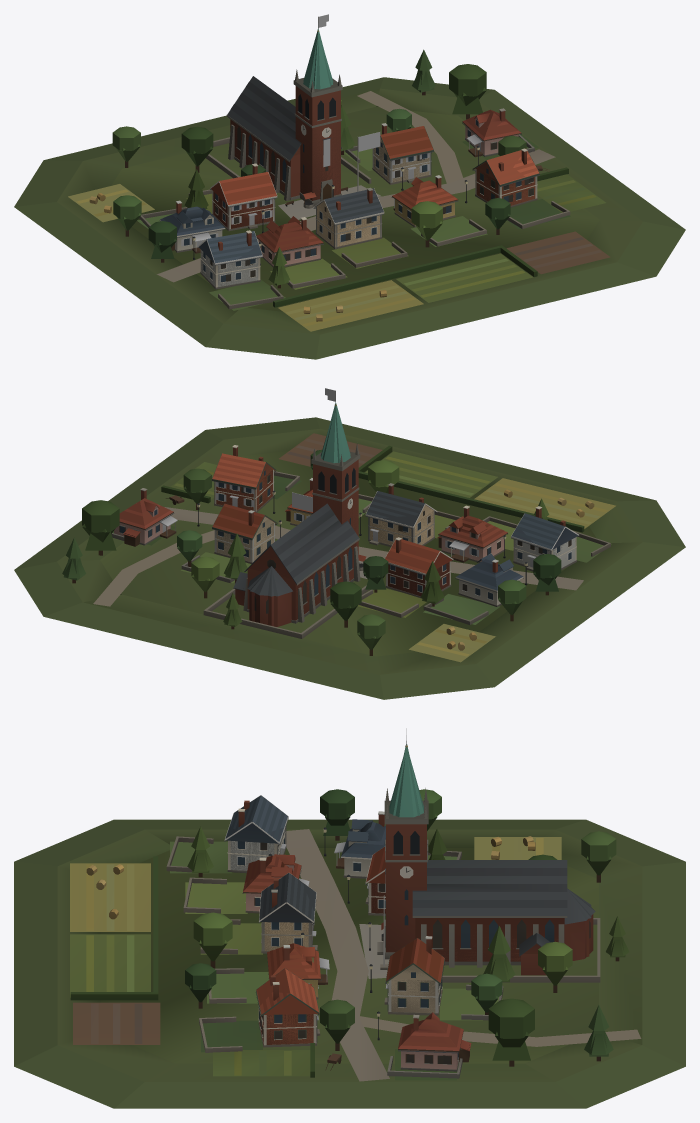
File: city_any_village.glb
3 views of the same model, one above another, from view 1: azimuth 30°, elevation 25°; view 2: azimuth 150°, elevation 25°; view 3: azimuth 270°, elevation 25° (orthographic). The views are drawn at different scales.
Visible parts, largest first — view 1: city_any_village_LOD0_mesh, city_any_village_LOD2_mesh, city_any_village_LOD1_mesh; view 2: city_any_village_LOD0_mesh, city_any_village_LOD2_mesh, city_any_village_LOD1_mesh; view 3: city_any_village_LOD0_mesh, city_any_village_LOD2_mesh, city_any_village_LOD1_mesh.
Part boxes in pixels (<box>): city_any_village_LOD0_mesh: <box>34,14,665,347</box>; city_any_village_LOD2_mesh: <box>14,21,685,359</box>; city_any_village_LOD1_mesh: <box>116,70,535,286</box>; city_any_village_LOD0_mesh: <box>34,388,665,688</box>; city_any_village_LOD2_mesh: <box>14,395,685,699</box>; city_any_village_LOD1_mesh: <box>63,456,575,650</box>; city_any_village_LOD0_mesh: <box>34,728,665,1096</box>; city_any_village_LOD2_mesh: <box>14,741,685,1108</box>; city_any_village_LOD1_mesh: <box>189,800,625,1059</box>.
Size of the model in its own units: 110 by 40.91 by 108.
